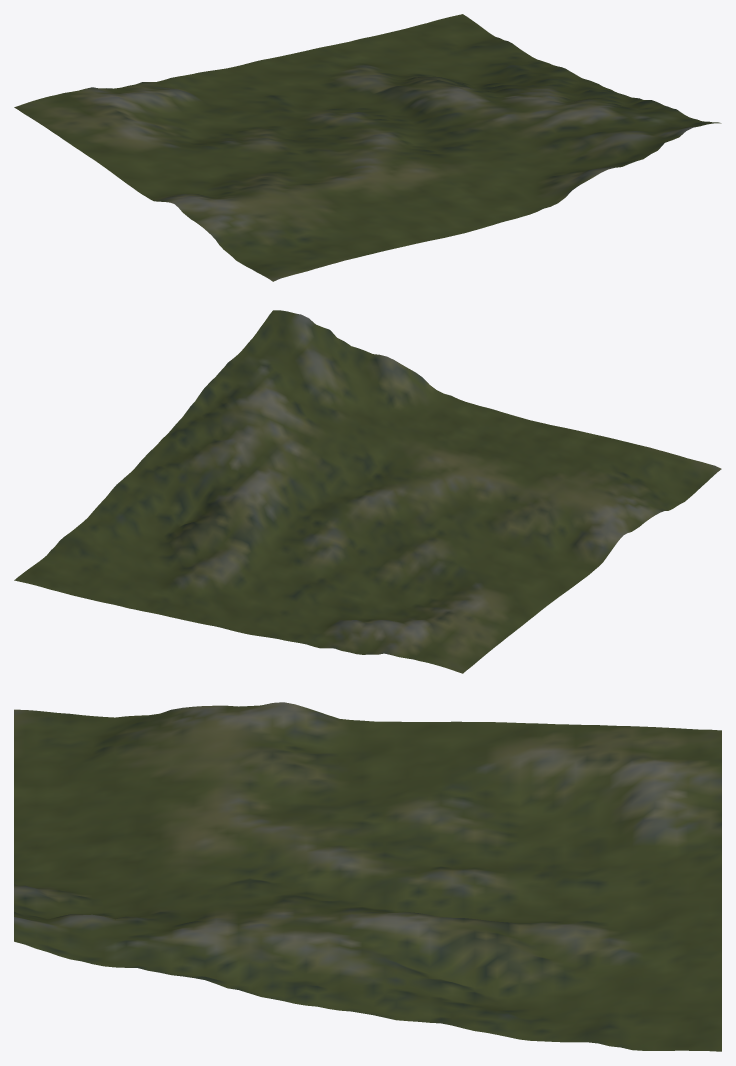
File: TownLandscape_Mesh_x0125_0_2.fbx
The picture shows the model from 3 angles, top to bottom: view 1: azimuth 30°, elevation 25°; view 2: azimuth 150°, elevation 25°; view 3: azimuth 270°, elevation 25°; orthographic projection. The views are drawn at different scales.
Parts seen in each view (by area): view 1: Terrain; view 2: Terrain; view 3: Terrain.
Part boxes in pixels (x1,y1,x2,y2): Terrain: (14, 14, 721, 281); Terrain: (14, 310, 721, 673); Terrain: (14, 702, 721, 1051).
Bounding box in the file's own units: 1024 × 183 × 1024.
